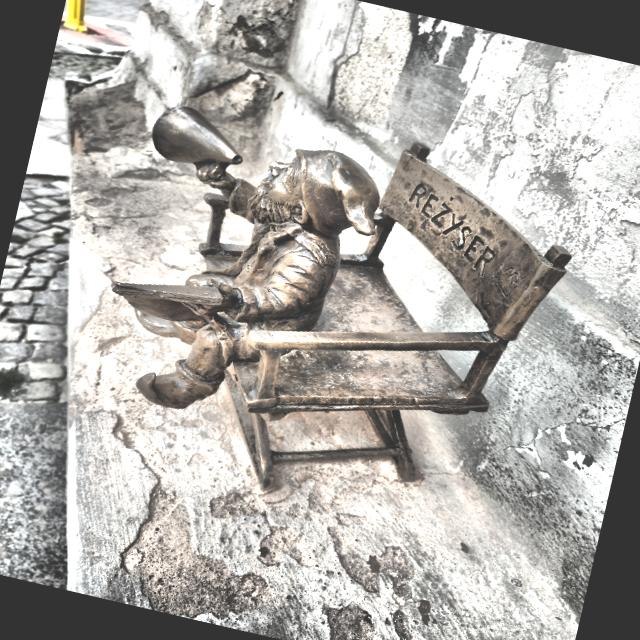Rezyser: (112, 106, 569, 487)
